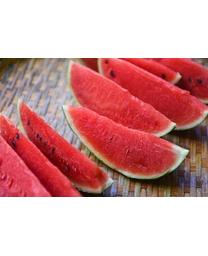watermelon: (1, 59, 206, 196)
